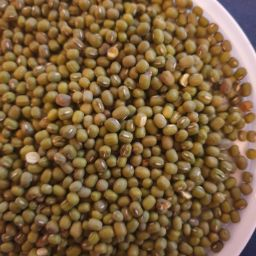Green gram dal(moong): (29, 84, 229, 228), (2, 1, 225, 93), (170, 2, 250, 256), (42, 2, 117, 256), (113, 3, 173, 256), (2, 2, 49, 256)
